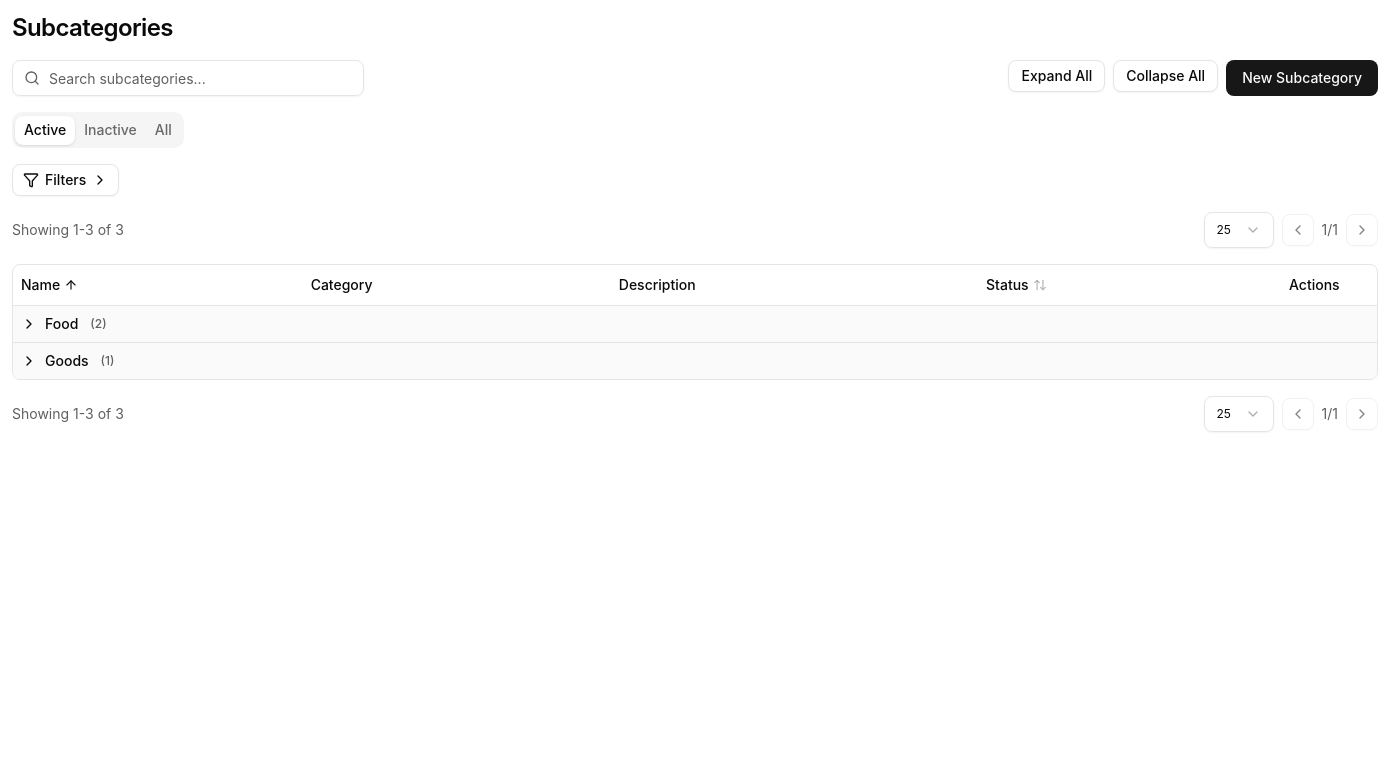
it: Subcategories › clicking an expanded category header collapses it
Click the row with test id "category-header-c1" at (695,324), box [13, 305, 1377, 342]
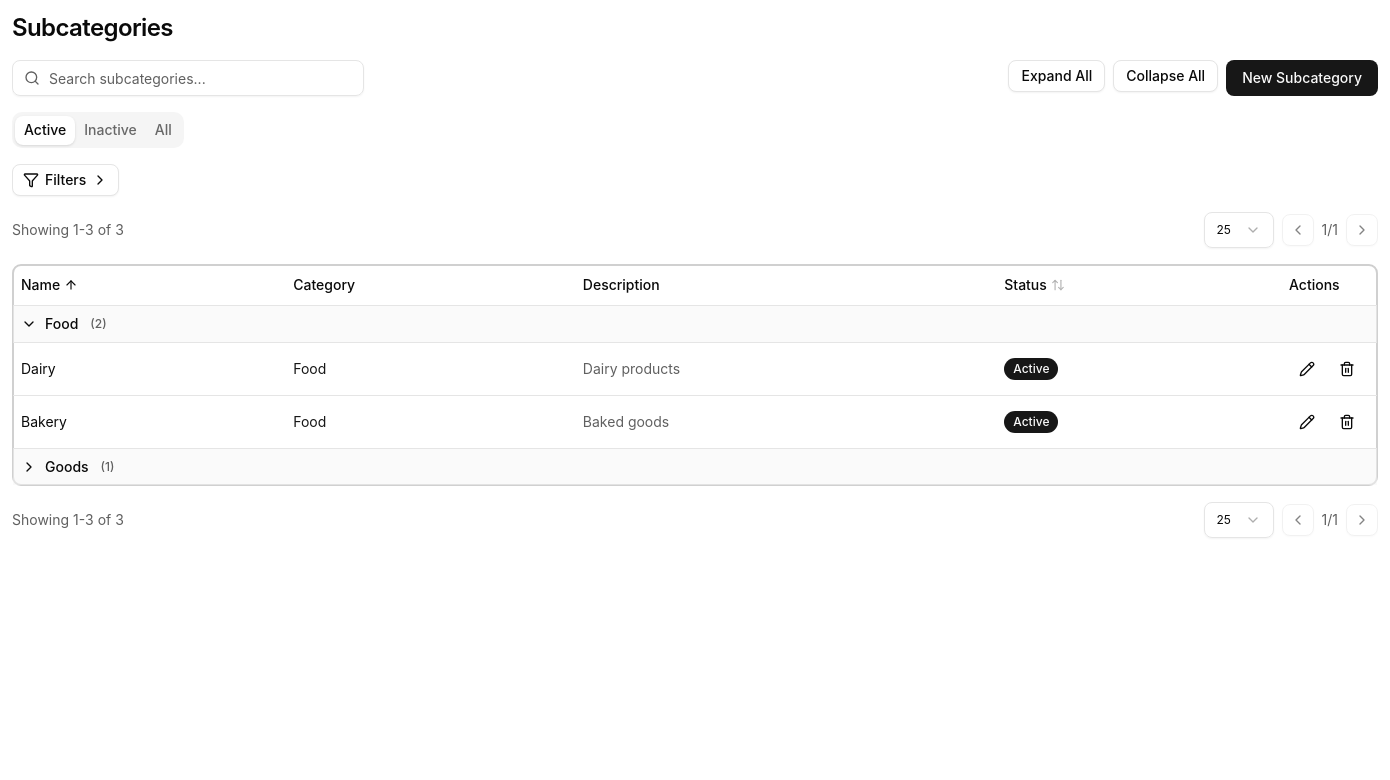
Expected: the text "Dairy" is shown, [13, 342, 285, 395]
Click the row with test id "category-header-c1" at (695,324), box [13, 305, 1377, 342]
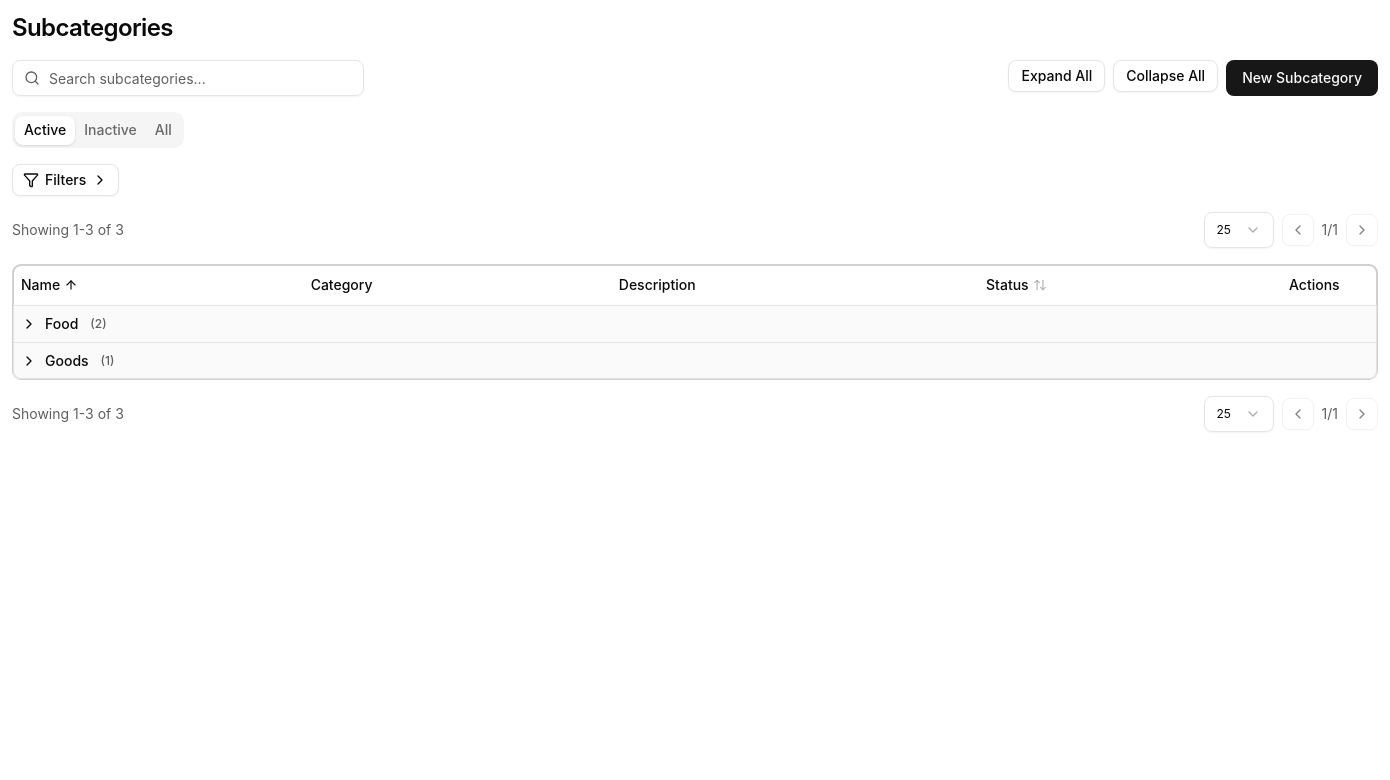
Expected: the text "Dairy" is gone
